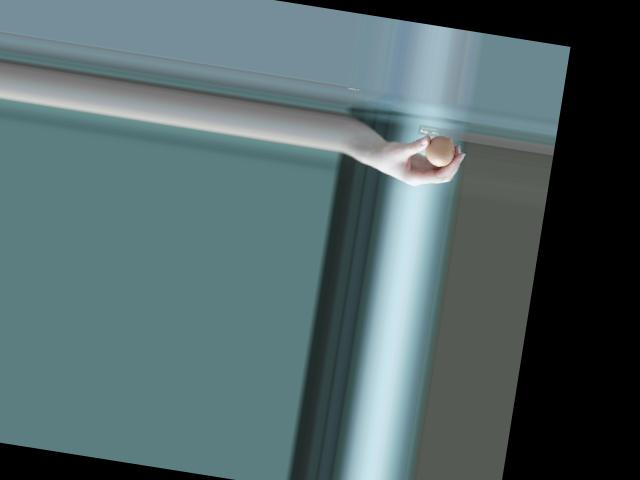egg: (423, 133, 457, 168)
